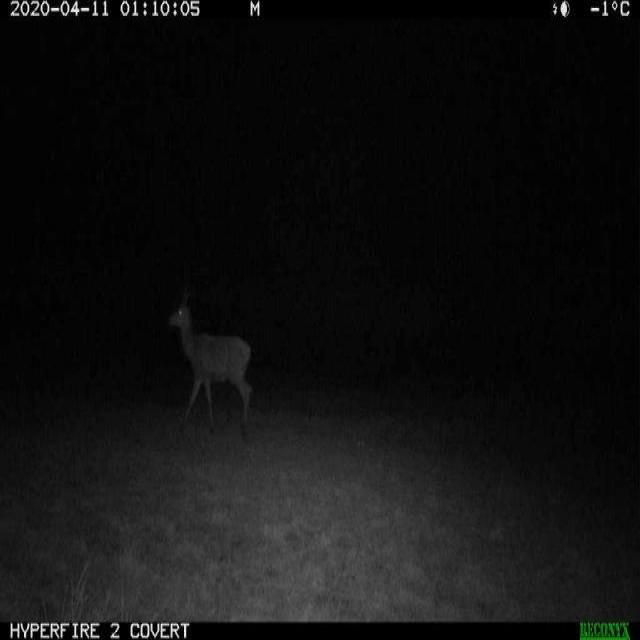deer: (152, 275, 266, 450)
